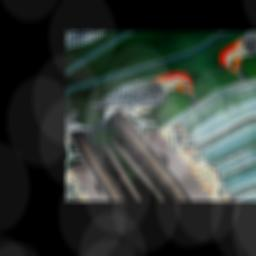Woodpecker: (81, 58, 210, 147)
